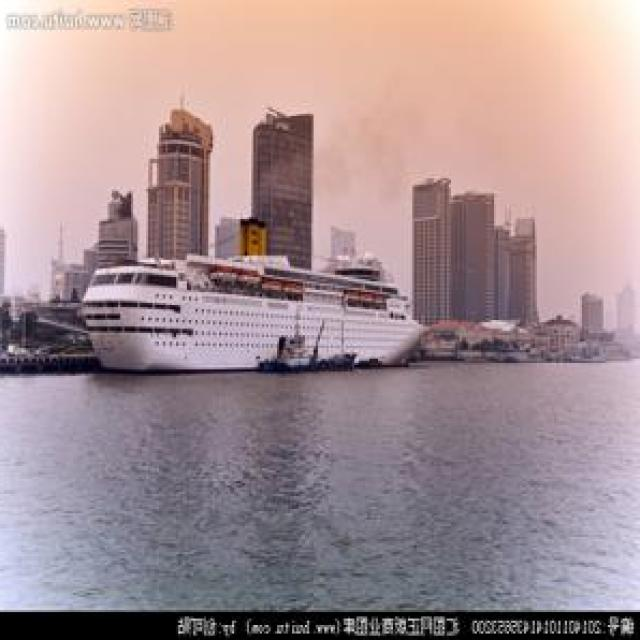passenger ship: (90, 233, 418, 372)
